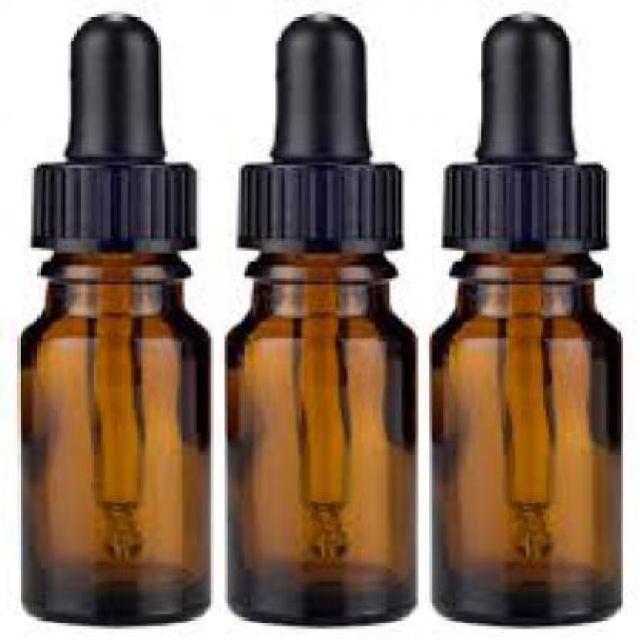kaca: (429, 251, 620, 626), (14, 251, 208, 620), (224, 254, 416, 620)
